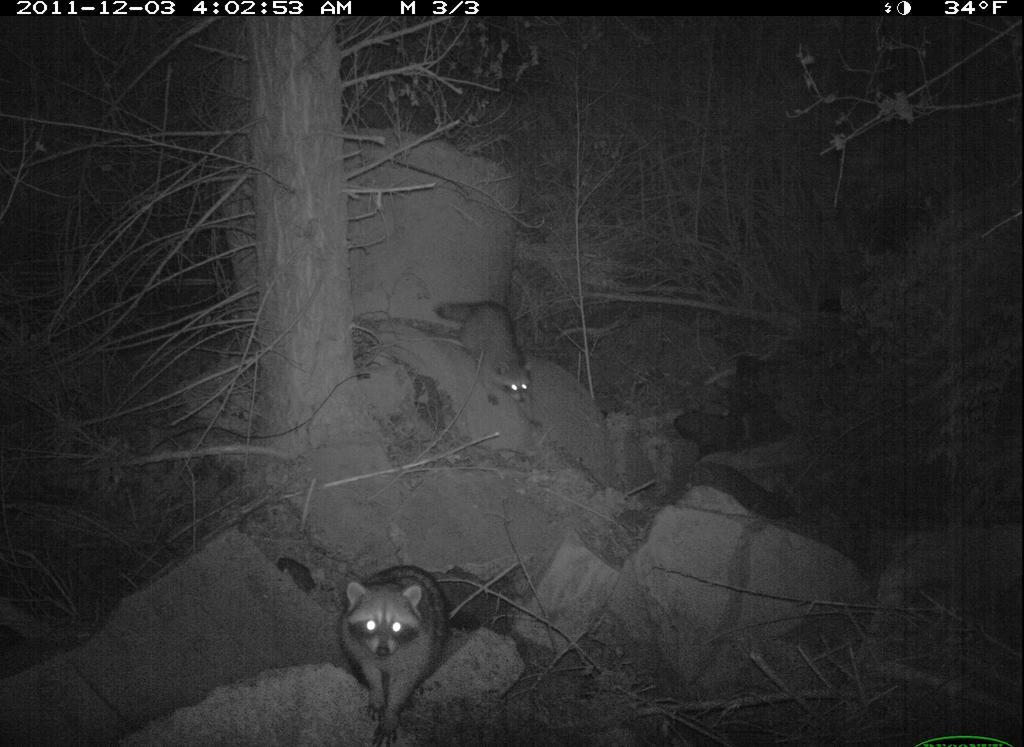raccoon: (328, 562, 457, 747), (434, 287, 538, 408)
